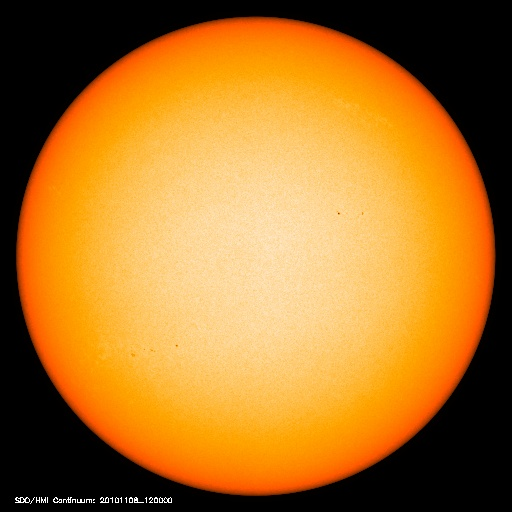sunspot: (123, 329, 191, 362), (325, 202, 378, 231)
